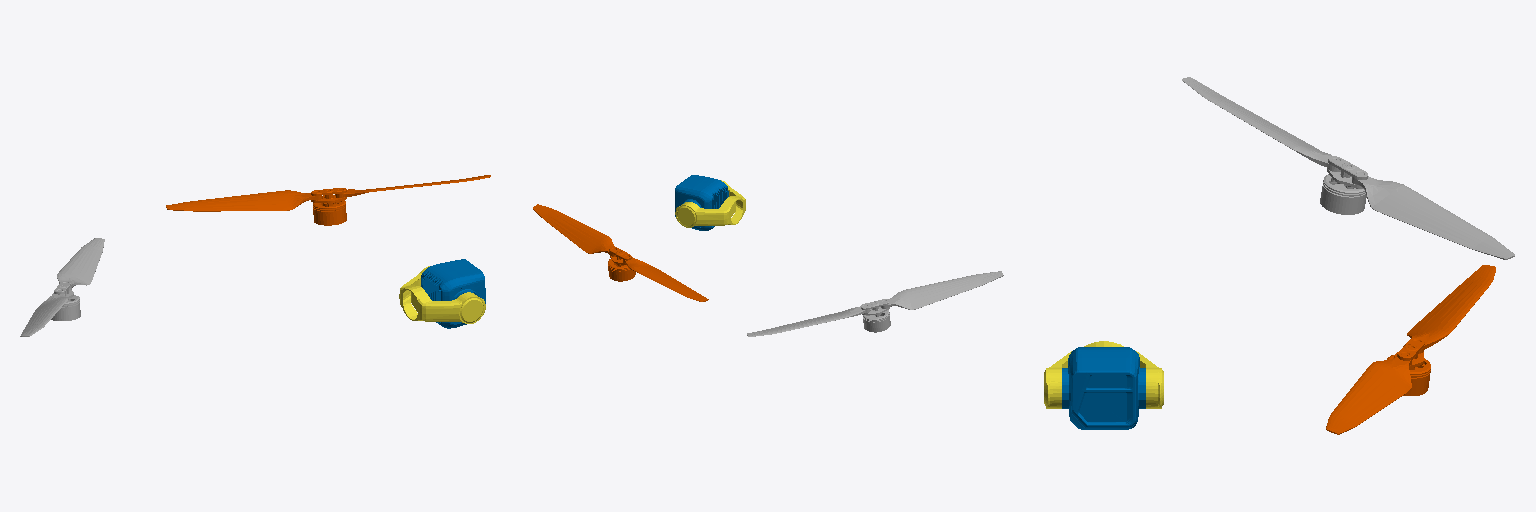
The robot description file, URDF, robot "DJI Mavic 3 Enterprise":
<robot name="DJI Mavic 3 Enterprise">
  <link name="base_link"/>

  <joint name="body_joint" type="fixed">
    <parent link="base_link"/>
    <child  link="body_link"/>
  </joint>

  <link name="body_link">
    <visual>
      <geometry>
        <mesh filename="package://dji_drone_description/meshes/mavic3e/body.dae" />
      </geometry>
      <origin xyz="0 0 0" rpy="0 0 0"/>
    </visual>
  </link>

  <joint name="yaw_joint" type="revolute">
    <parent link="body_link"/>
    <child  link="gimbal_0_link"/>
    <origin xyz="0.087593 0 0.037652" rpy="0 0 0"/>
    <axis xyz="-0.353505 0 0.935433"/>
    <limit lower="-0.471239" upper="0.471239" effort="0" velocity="0"/>
  </joint>

  <link name="gimbal_0_link">
    <visual>
      <geometry>
        <mesh filename="package://dji_drone_description/meshes/mavic3e/gimbal_0.dae" />
      </geometry>
      <origin xyz="0 0 0" rpy="0 0 0"/>
    </visual>
  </link>

  <joint name="roll_joint" type="revolute">
    <parent link="gimbal_0_link"/>
    <child  link="gimbal_1_link"/>
    <origin xyz="-0.014743 0 -0.032043" rpy="0 0 0"/>
    <axis xyz="1 0 0"/>
    <limit lower="-0.785398" upper="0.785398" effort="0" velocity="0"/>
  </joint>

  <link name="gimbal_1_link">
    <visual>
      <geometry>
        <mesh filename="package://dji_drone_description/meshes/mavic3e/gimbal_1.dae" />
      </geometry>
      <origin xyz="0 0 0" rpy="0 0 0"/>
    </visual>
  </link>

  <joint name="pitch_joint" type="revolute">
    <parent link="gimbal_1_link"/>
    <child  link="camera_link"/>
    <origin xyz="0.0339 0 0.000792" rpy="0 0 0"/>
    <axis xyz="0 1 0"/>
    <limit lower="-1.74533" upper="2.35619" effort="0" velocity="0"/>
  </joint>

  <link name="camera_link">
    <visual>
      <geometry>
        <mesh filename="package://dji_drone_description/meshes/mavic3e/camera.dae" />
      </geometry>
      <origin xyz="0 0 0" rpy="0 0 0"/>
    </visual>
  </link>

  <joint name="motor_lf_joint" type="continuous">
    <parent link="body_link"/>
    <child  link="motor_lf_link"/>
    <origin xyz="0.098178 0.159983 0.003555" rpy="0 0 0"/>
    <axis xyz="-0.016012 -0.130219 -0.991356"/>
  </joint>  

    <link name="motor_lf_link">
    <visual>
      <geometry>
        <mesh filename="package://dji_drone_description/meshes/mavic3e/motor_lf.dae" />
      </geometry>
      <origin xyz="0 0 0" rpy="0 0 0"/>
    </visual>
  </link>

  <joint name="motor_rf_joint" type="continuous">
    <parent link="body_link"/>
    <child  link="motor_rf_link"/>
    <origin xyz="0.098176 -0.159967 0.003439" rpy="0 0 0"/>
    <axis xyz="0.016012 -0.130219 0.991356"/>
  </joint>  

  <link name="motor_rf_link">
    <visual>
      <geometry>
        <mesh filename="package://dji_drone_description/meshes/mavic3e/motor_rf.dae" />
      </geometry>
      <origin xyz="0 0 0" rpy="0 0 0"/>
    </visual>
  </link>

  <joint name="motor_lb_joint" type="continuous">
    <parent link="body_link"/>
    <child  link="motor_lb_link"/>
    <origin xyz="-0.144319 0.126426 -0.003296" rpy="0 0 0"/>s
    <axis xyz="0.023843 0.142307 0.989535"/>
  </joint>  

  <link name="motor_lb_link">
    <visual>
      <geometry>
        <mesh filename="package://dji_drone_description/meshes/mavic3e/motor_lb.dae" />
      </geometry>
      <origin xyz="0 0 0" rpy="0 0 0"/>
    </visual>
  </link>

  <joint name="motor_rb_joint" type="continuous">
    <parent link="body_link"/>
    <child  link="motor_rb_link"/>
    <origin xyz="-0.144317 -0.126434 -0.003243" rpy="0 0 0"/>
    <axis xyz="-0.023843 0.142307 -0.989535"/>
  </joint>  

    <link name="motor_rb_link">
    <visual>
      <geometry>
        <mesh filename="package://dji_drone_description/meshes/mavic3e/motor_rb.dae" />
      </geometry>
      <origin xyz="0 0 0" rpy="0 0 0"/>
    </visual>
  </link>
</robot>

--- What the picture shows (computed from the rendered views, not written in the file) ---
3 views of the same robot in one strip: view 1: azimuth 30°, elevation 25°; view 2: azimuth 150°, elevation 25°; view 3: azimuth 270°, elevation 25° (orthographic).
Model DJI Mavic 3 Enterprise with 9 links and 8 joints (3 revolute, 4 continuous, 1 fixed), rooted at base_link, posed every joint at zero.
Visible links, largest first — view 1: motor_lf_link, motor_lb_link, gimbal_1_link, camera_link; view 2: motor_lb_link, motor_lf_link, gimbal_1_link, camera_link; view 3: motor_lb_link, motor_lf_link, camera_link, gimbal_1_link.
Link boxes in pixels (x1=…): motor_lf_link: x1=166, y1=175, x2=490, y2=225; motor_lb_link: x1=20, y1=238, x2=104, y2=336; gimbal_1_link: x1=399, y1=266, x2=485, y2=323; camera_link: x1=421, y1=259, x2=485, y2=328; motor_lb_link: x1=747, y1=271, x2=1003, y2=336; motor_lf_link: x1=533, y1=204, x2=708, y2=301; gimbal_1_link: x1=675, y1=180, x2=745, y2=227; camera_link: x1=675, y1=175, x2=728, y2=230; motor_lb_link: x1=1182, y1=77, x2=1514, y2=259; motor_lf_link: x1=1326, y1=265, x2=1495, y2=434; camera_link: x1=1062, y1=347, x2=1145, y2=429; gimbal_1_link: x1=1044, y1=341, x2=1163, y2=408.
Size in the robot's own frame: 0.4384 by 0.2498 by 0.0472 metres.
4 mesh visuals loaded from 8 distinct referenced files (4 Collada DAE); not drawn: 4 (reference not matched to a file when rendering).